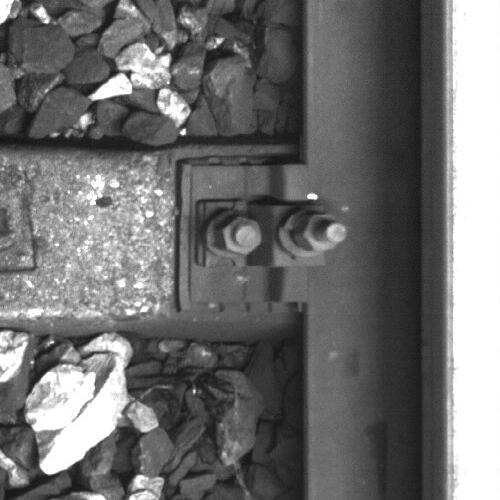kb: (187, 166, 349, 304)
nut: (293, 211, 348, 254), (216, 212, 263, 256)
rail: (445, 1, 500, 500)
tie_concr: (1, 151, 298, 314)
